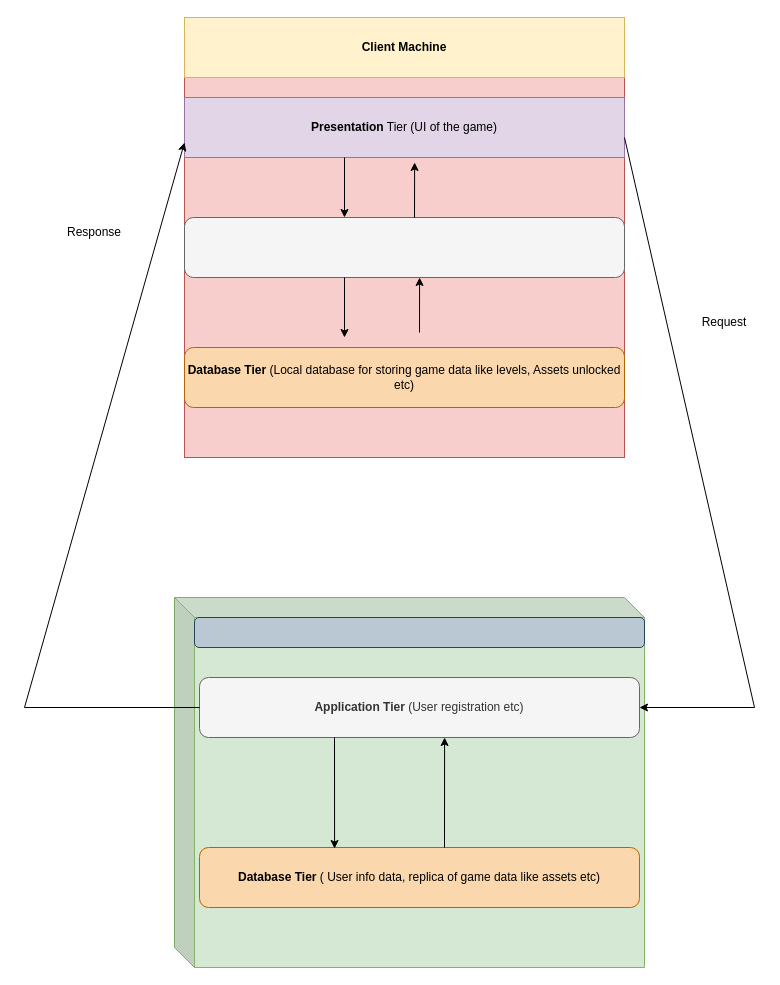
Some shapes in this 780 by 985 pixel diagram are drawn without their labels. Here are the shapes that lost their labels. From the top down, the centre of each, then its label:
At point (404, 247): "Application Tier (Game logic)".
At point (419, 632): "Server".
